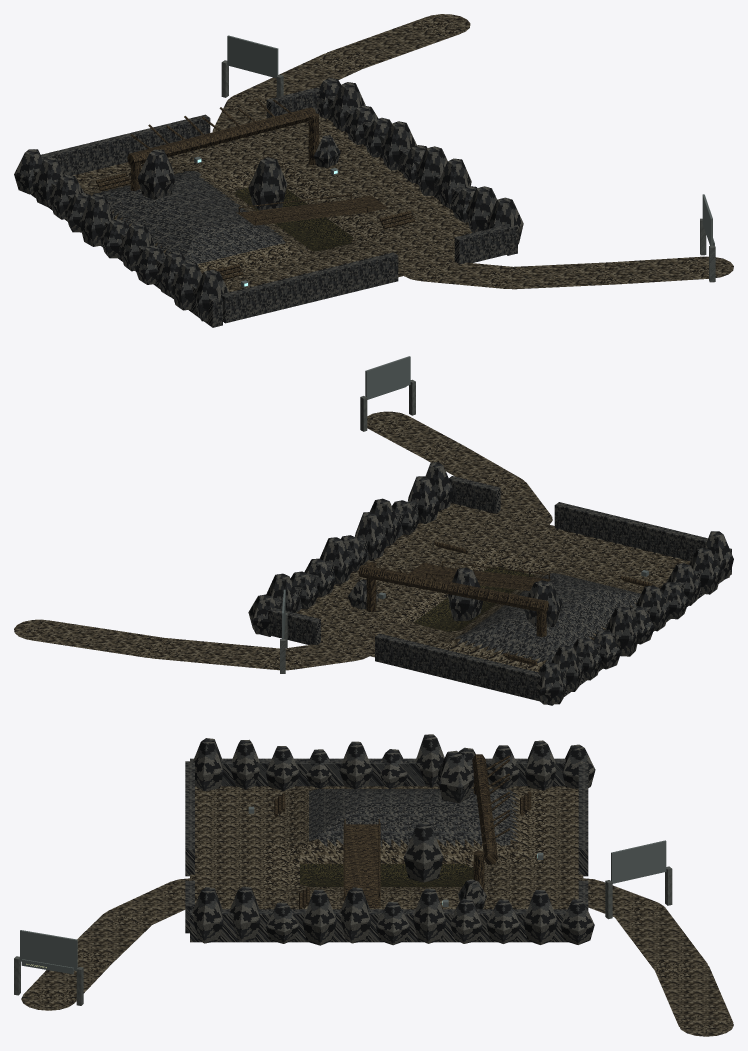
Rendered from PL_Route_A.fbx.
The picture shows the model from 3 angles, top to bottom: view 1: azimuth 30°, elevation 25°; view 2: azimuth 150°, elevation 25°; view 3: azimuth 270°, elevation 25°; orthographic projection. The views are drawn at different scales.
Parts seen in each view (by area): view 1: PL_A_CombatSpace, PL_Travel_A, PL_Travel_ExitA, PL_A_EndWall, PL_A_EndWall.002, PL_A_FallenSpruce, PL_A_EndWall.001, PL_A_Rear_GateLeaf, PL_A_RockIsland_0, PL_A_RockIsland_1, PL_A_RimRock.006, PL_A_Boundary.001 (+26 smaller); view 2: PL_A_CombatSpace, PL_Travel_ExitA, PL_Travel_A, PL_A_EndWall.002, PL_A_EndWall, PL_A_FallenSpruce, PL_A_EndWall.003, PL_A_EndWall.001, PL_A_Front_GateLeaf, PL_A_RimRock.006, PL_A_RockIsland_0, PL_A_RimRock.010 (+20 smaller); view 3: PL_A_CombatSpace, PL_Travel_ExitA, PL_Travel_A, PL_A_Boundary.001, PL_A_Boundary, PL_A_Rear_GateLeaf, PL_A_RockIsland_0, PL_A_Front_GateLeaf, PL_A_RockIsland_1, PL_A_FallenSpruce, PL_A_RimRock.014, PL_A_RimRock.020 (+23 smaller).
Boxes of the visible parts, left/top/right/bottom form: PL_A_CombatSpace: left=73, top=115, right=472, bottom=292; PL_Travel_A: left=400, top=256, right=733, bottom=289; PL_Travel_ExitA: left=212, top=14, right=470, bottom=143; PL_A_EndWall: left=221, top=252, right=398, bottom=323; PL_A_EndWall.002: left=41, top=114, right=210, bottom=175; PL_A_FallenSpruce: left=127, top=107, right=315, bottom=165; PL_A_EndWall.001: left=454, top=225, right=510, bottom=264; PL_A_Rear_GateLeaf: left=227, top=35, right=278, bottom=78; PL_A_RockIsland_0: left=248, top=157, right=287, bottom=210; PL_A_RockIsland_1: left=137, top=149, right=175, bottom=199; PL_A_RimRock.006: left=79, top=194, right=113, bottom=246; PL_A_Boundary.001: left=327, top=96, right=517, bottom=255; PL_A_CombatSpace: left=297, top=503, right=690, bottom=671; PL_Travel_ExitA: left=14, top=619, right=372, bottom=670; PL_Travel_A: left=367, top=411, right=552, bottom=529; PL_A_EndWall.002: left=375, top=633, right=541, bottom=701; PL_A_EndWall: left=554, top=502, right=707, bottom=561; PL_A_FallenSpruce: left=358, top=565, right=549, bottom=612; PL_A_EndWall.003: left=268, top=607, right=320, bottom=645; PL_A_EndWall.001: left=449, top=476, right=500, bottom=513; PL_A_Front_GateLeaf: left=365, top=356, right=410, bottom=398; PL_A_RimRock.006: left=605, top=606, right=640, bottom=656; PL_A_RockIsland_0: left=447, top=567, right=483, bottom=620; PL_A_RimRock.010: left=536, top=662, right=567, bottom=704; PL_A_CombatSpace: left=190, top=786, right=583, bottom=909; PL_Travel_ExitA: left=556, top=878, right=733, bottom=1036; PL_Travel_A: left=21, top=878, right=217, bottom=1010; PL_A_Boundary.001: left=190, top=909, right=567, bottom=942; PL_A_Boundary: left=190, top=758, right=565, bottom=786; PL_A_Rear_GateLeaf: left=611, top=840, right=666, bottom=883; PL_A_RockIsland_0: left=404, top=822, right=443, bottom=882; PL_A_Front_GateLeaf: left=20, top=930, right=77, bottom=970; PL_A_RockIsland_1: left=438, top=750, right=473, bottom=803; PL_A_FallenSpruce: left=472, top=754, right=497, bottom=864; PL_A_RimRock.014: left=302, top=889, right=336, bottom=945; PL_A_RimRock.020: left=523, top=890, right=557, bottom=944.
Size of the model in its own units: 10141 by 1398 by 11716.
Materials: 9 (6 with a texture image).
